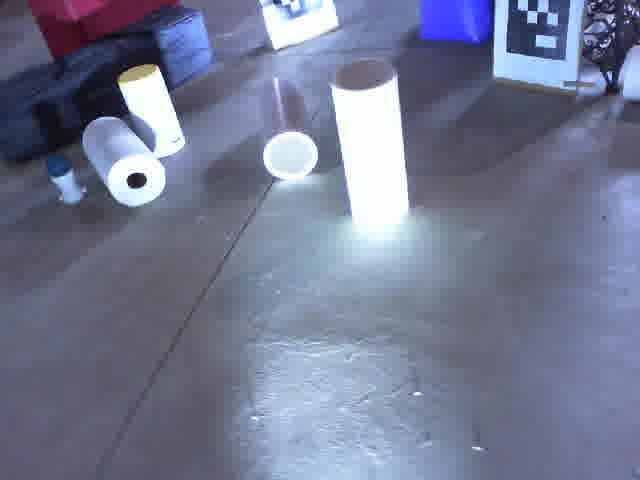coral: (329, 53, 412, 236), (249, 70, 325, 185), (115, 57, 189, 163)
